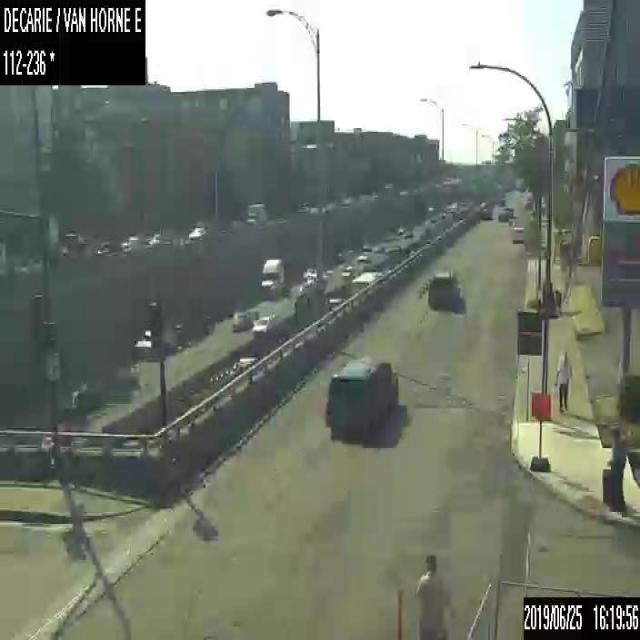construction: (530, 390, 550, 470), (394, 590, 402, 638)
pedestrian: (414, 552, 454, 639), (600, 428, 626, 511), (552, 349, 572, 412)
vehicle: (326, 356, 398, 425), (428, 271, 458, 307), (261, 256, 283, 298), (350, 270, 380, 291), (245, 202, 264, 226), (231, 312, 250, 329), (251, 316, 270, 332), (478, 201, 493, 219), (511, 223, 523, 242), (497, 206, 509, 221)
